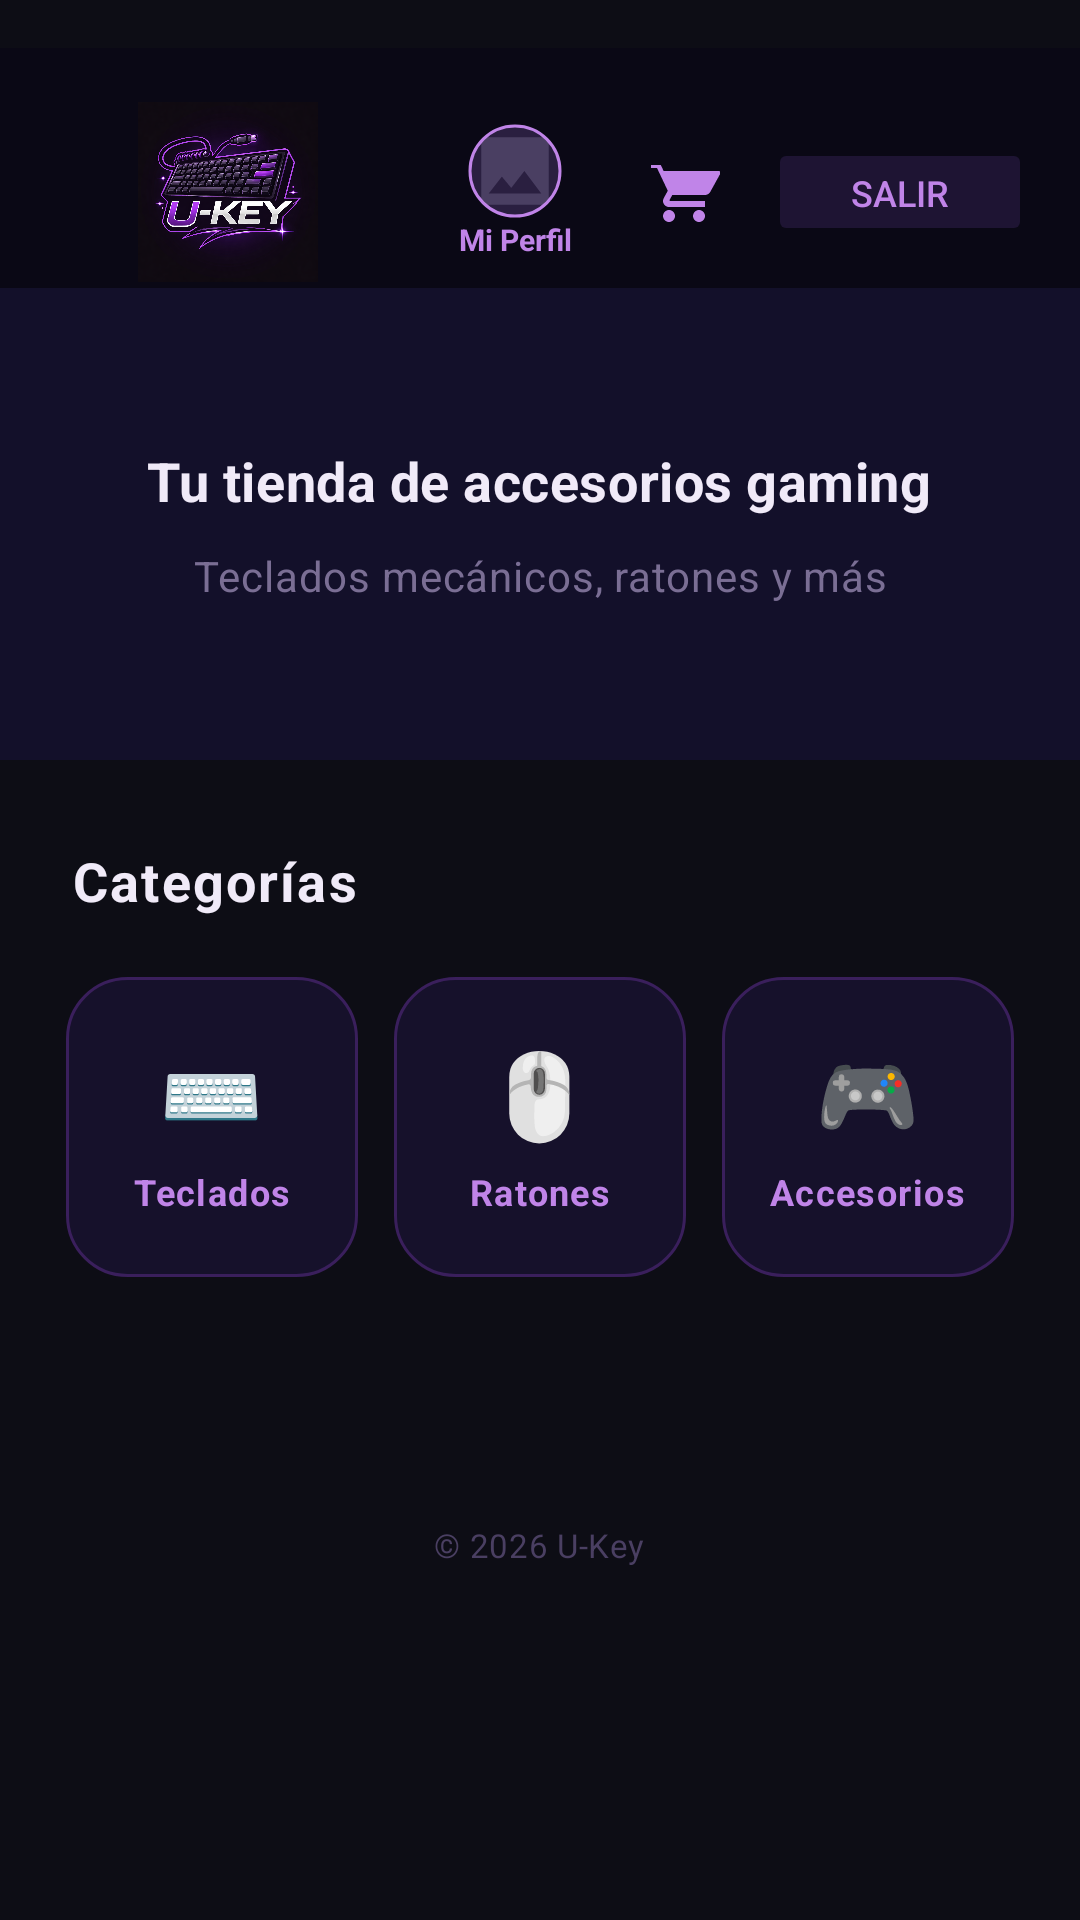

Icons on this 1080 x 1920 Android screen, each with the point to tap as [x,y]:
Ir al carrito: [685,193]
